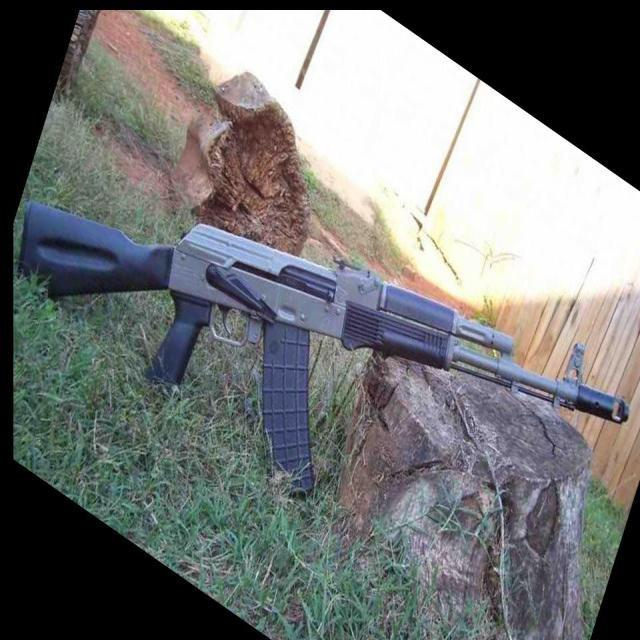weapon: (18, 199, 630, 499)
